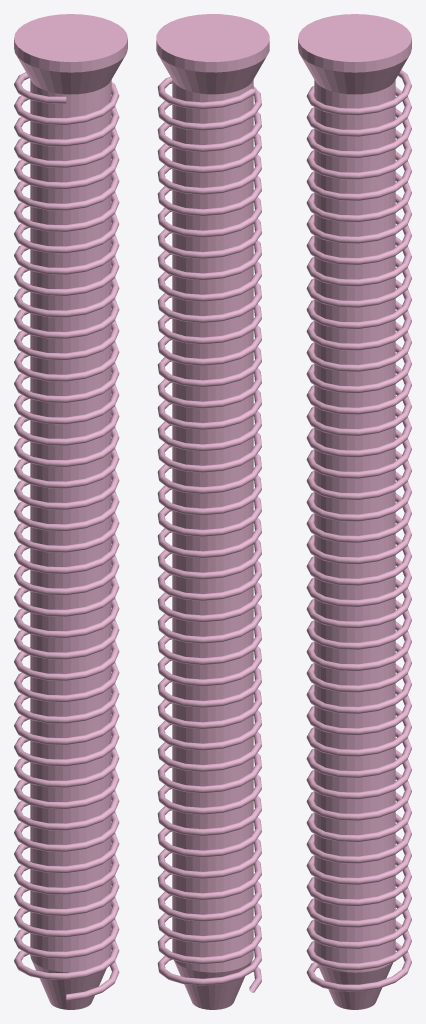
The model's file is sdaaaaaa.glb.
The picture shows the model from 3 angles, left to right: view 1: azimuth 90°, elevation 25°; view 2: azimuth 150°, elevation 25°; view 3: azimuth 270°, elevation 25°; orthographic projection.
Visible parts, largest first — view 1: 柱体.007, 柱体.004; view 2: 柱体.007, 柱体.004; view 3: 柱体.007, 柱体.004.
Boxes of the visible parts, x1,y1,x2,y2 form: 柱体.007: (14,14,127,1009); 柱体.004: (14,72,119,1001); 柱体.007: (156,14,269,1009); 柱体.004: (157,76,261,992); 柱体.007: (298,14,411,1009); 柱体.004: (306,70,411,991).
Size of the model in its own units: 0.4145 by 3.87 by 0.4146.
